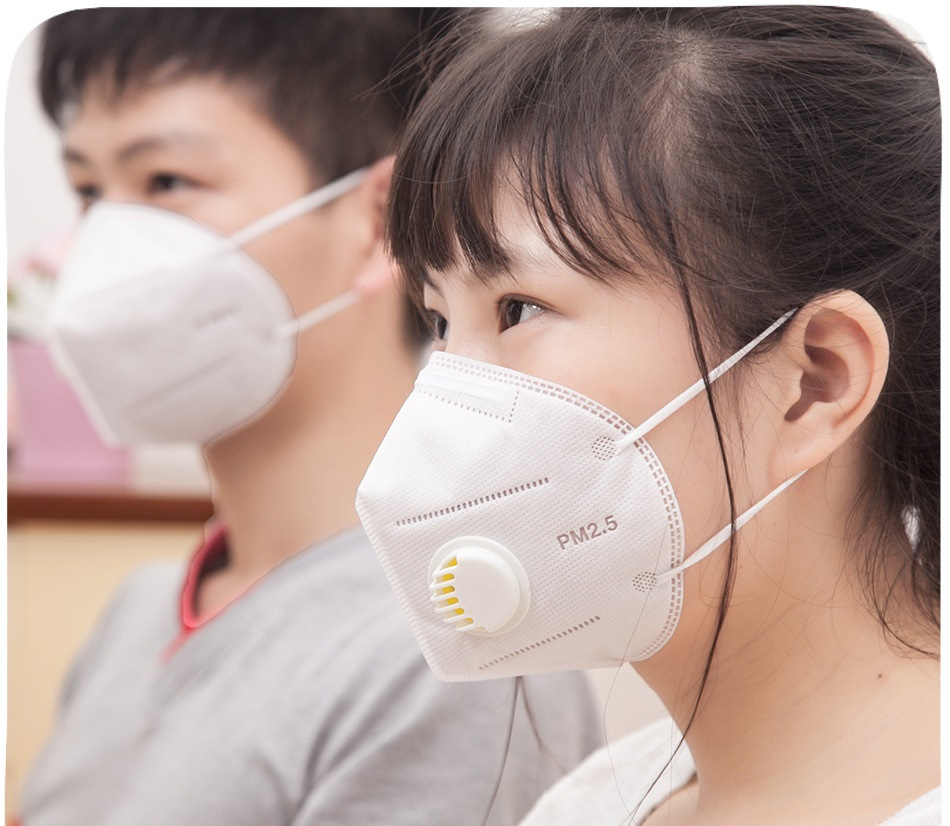face_mask: (406, 139, 752, 669), (50, 69, 309, 448)
